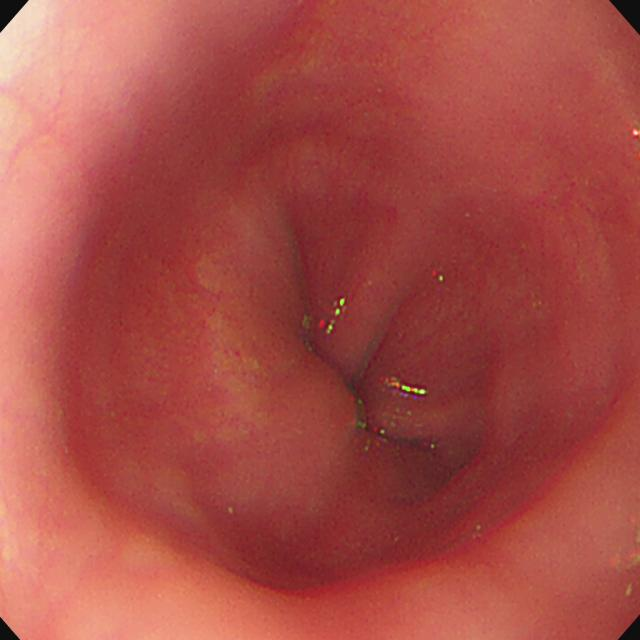I: (178, 151, 498, 507)
U: (318, 297, 346, 337), (380, 375, 428, 398)
